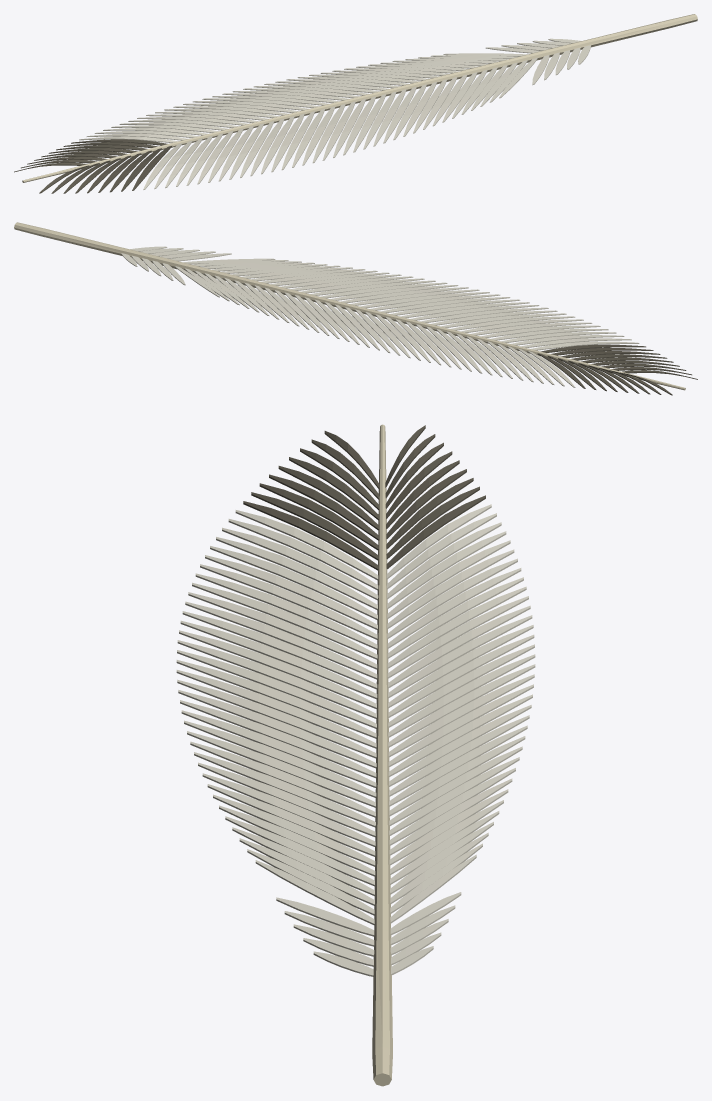
Rendered from A-NEW-20261027-FEATHER-001_LOD1_R1.glb.
The picture shows the model from 3 angles, top to bottom: view 1: azimuth 30°, elevation 25°; view 2: azimuth 150°, elevation 25°; view 3: azimuth 270°, elevation 25°; orthographic projection. The views are drawn at different scales.
Parts seen in each view (by area): view 1: continuous tapered feather shaft, closed vane barb group 26 -1, closed vane barb group 24 -1, closed vane barb group 25 -1, closed vane barb group 29 -1, closed vane barb group 27 -1, closed vane barb group 28 -1, closed vane barb group 22 -1, closed vane barb group 23 -1, closed vane barb group 21 -1, closed vane barb group 30 -1, closed vane barb group 20 -1 (+59 smaller); view 2: continuous tapered feather shaft, closed vane barb group 23 -1, closed vane barb group 25 -1, closed vane barb group 22 -1, closed vane barb group 24 -1, closed vane barb group 21 -1, closed vane barb group 27 -1, closed vane barb group 26 -1, closed vane barb group 20 -1, closed vane barb group 28 -1, closed vane barb group 18 -1, closed vane barb group 19 -1 (+47 smaller); view 3: continuous tapered feather shaft, closed vane barb group 25 -1, closed vane barb group 24 -1, closed vane barb group 23 -1, closed vane barb group 26 -1, closed vane barb group 22 -1, closed vane barb group 27 -1, closed vane barb group 21 -1, closed vane barb group 28 -1, closed vane barb group 20 -1, closed vane barb group 29 -1, closed vane barb group 19 -1 (+59 smaller).
Boxes of the visible parts, left/top/right/bottom form: continuous tapered feather shaft: left=22, top=14, right=697, bottom=182; closed vane barb group 26 -1: left=322, top=101, right=355, bottom=160; closed vane barb group 24 -1: left=302, top=106, right=335, bottom=165; closed vane barb group 25 -1: left=312, top=104, right=345, bottom=163; closed vane barb group 29 -1: left=353, top=94, right=386, bottom=152; closed vane barb group 27 -1: left=333, top=99, right=365, bottom=157; closed vane barb group 28 -1: left=343, top=96, right=375, bottom=155; closed vane barb group 22 -1: left=281, top=111, right=314, bottom=170; closed vane barb group 23 -1: left=292, top=109, right=325, bottom=167; closed vane barb group 21 -1: left=271, top=114, right=304, bottom=172; closed vane barb group 30 -1: left=363, top=92, right=396, bottom=149; closed vane barb group 20 -1: left=261, top=116, right=294, bottom=174; continuous tapered feather shaft: left=14, top=222, right=685, bottom=390; closed vane barb group 23 -1: left=390, top=299, right=520, bottom=315; closed vane barb group 25 -1: left=370, top=294, right=500, bottom=310; closed vane barb group 22 -1: left=401, top=302, right=529, bottom=317; closed vane barb group 24 -1: left=381, top=297, right=510, bottom=313; closed vane barb group 21 -1: left=410, top=305, right=539, bottom=320; closed vane barb group 27 -1: left=350, top=289, right=479, bottom=305; closed vane barb group 26 -1: left=360, top=292, right=489, bottom=308; closed vane barb group 20 -1: left=420, top=307, right=548, bottom=322; closed vane barb group 28 -1: left=341, top=287, right=468, bottom=303; closed vane barb group 18 -1: left=440, top=313, right=566, bottom=327; closed vane barb group 19 -1: left=431, top=310, right=557, bottom=325; continuous tapered feather shaft: left=372, top=424, right=392, bottom=1086; closed vane barb group 25 -1: left=176, top=660, right=376, bottom=738; closed vane barb group 24 -1: left=177, top=650, right=376, bottom=728; closed vane barb group 23 -1: left=177, top=640, right=376, bottom=718; closed vane barb group 26 -1: left=176, top=670, right=376, bottom=748; closed vane barb group 22 -1: left=179, top=630, right=376, bottom=708; closed vane barb group 27 -1: left=177, top=679, right=376, bottom=758; closed vane barb group 21 -1: left=180, top=620, right=377, bottom=699; closed vane barb group 28 -1: left=178, top=690, right=376, bottom=768; closed vane barb group 20 -1: left=182, top=611, right=377, bottom=689; closed vane barb group 29 -1: left=180, top=700, right=376, bottom=778; closed vane barb group 19 -1: left=185, top=601, right=377, bottom=679.
Size of the model in its own units: 0.252 by 0.00327 by 0.0585.
